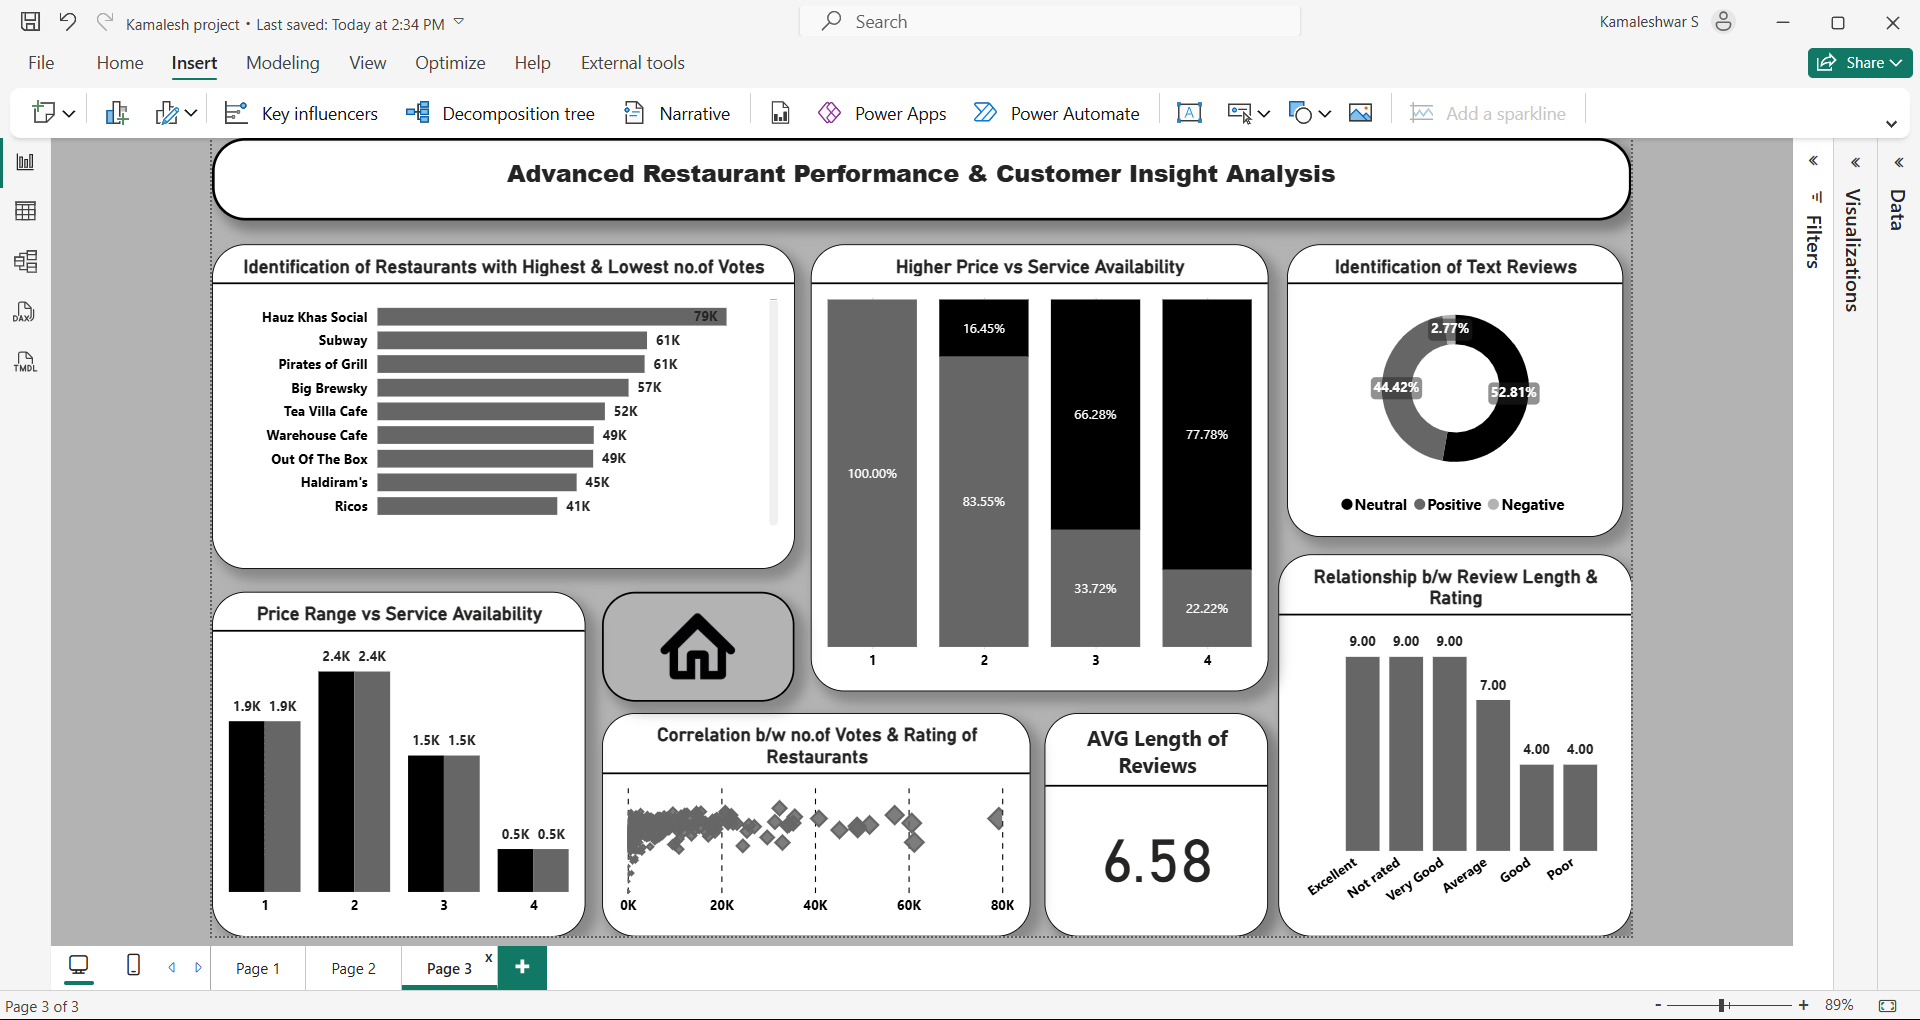

Layout of this report page (visuals, bound fields, positions):
{"tool":"powerbi","page":{"name":"Page 3","canvas":[1280,720],"ordinal":2},"visuals":[{"type":"donutChart","title":"Identification of Text Reviews","fields":{"Category":["Dataset.Sentiment","Dataset.Rating text"],"Y":["CountNonNull(Dataset.Restaurant ID)"]},"box":[969.3,95.8,303.2,263.7],"z":0},{"type":"cardVisual","title":"AVG Length of Reviews","fields":{"Data":["Avg(Dataset.Rating Text Length)"]},"box":[750.7,518.5,201.8,201.8],"z":1000},{"type":"columnChart","title":"Relationship b/w Review Length & Rating","fields":{"Category":["Dataset.Rating text"],"Y":["Avg(Dataset.Rating Text Length)"]},"box":[961.4,375.3,319,344.9],"z":2000},{"type":"barChart","title":"Identification of Restaurants with Highest & Lowest no.of Votes","fields":{"Category":["Dataset.Restaurant Name"],"Y":["Sum(Dataset.Votes)"]},"box":[0,95.8,525.2,293.1],"z":3000},{"type":"scatterChart","title":"Correlation b/w no.of Votes & Rating of Restaurants","fields":{"X":["Sum(Dataset.Votes)"],"Y":["Avg(Dataset.Aggregate rating)"],"Category":["Dataset.Restaurant Name"],"Size":["Sum(Dataset.Votes)"]},"box":[351.7,518.5,386.6,201.8],"z":4000},{"type":"textbox","box":[0,0,1280.2,74.4],"z":5000},{"type":"clusteredColumnChart","title":"Price Range vs Service Availability","fields":{"Category":["Dataset.Price range"],"Series":["Dataset.Service Type"],"Y":["CountNonNull(Dataset.Restaurant ID)"]},"box":[0,409.1,337,311.1],"z":6000},{"type":"hundredPercentStackedColumnChart","title":"Higher Price vs Service Availability","fields":{"Category":["Dataset.Price range"],"Series":["Dataset.Service Type"],"Y":["CountNonNull(Dataset.Restaurant ID)"]},"box":[539.9,95.8,412.5,403.5],"z":7000},{"type":"image","box":[351.7,409.1,173.6,99.2],"z":9000}]}

Visuals, with their boxes on the page's 1280x720 design canvas (x1, y1, x2, y2). These are canvas units, not pixel positions in the 1920x1020 screenshot, which may show the page scaled, cropped or inside an application window:
"Identification of Text Reviews" donutChart: 969/96/1272/360
"AVG Length of Reviews" cardVisual: 751/518/952/720
"Relationship b/w Review Length & Rating" columnChart: 961/375/1280/720
"Identification of Restaurants with Highest & Lowest no.of Votes" barChart: 0/96/525/389
"Correlation b/w no.of Votes & Rating of Restaurants" scatterChart: 352/518/738/720
textbox: 0/0/1280/74
"Price Range vs Service Availability" clusteredColumnChart: 0/409/337/720
"Higher Price vs Service Availability" hundredPercentStackedColumnChart: 540/96/952/499
image: 352/409/525/508
